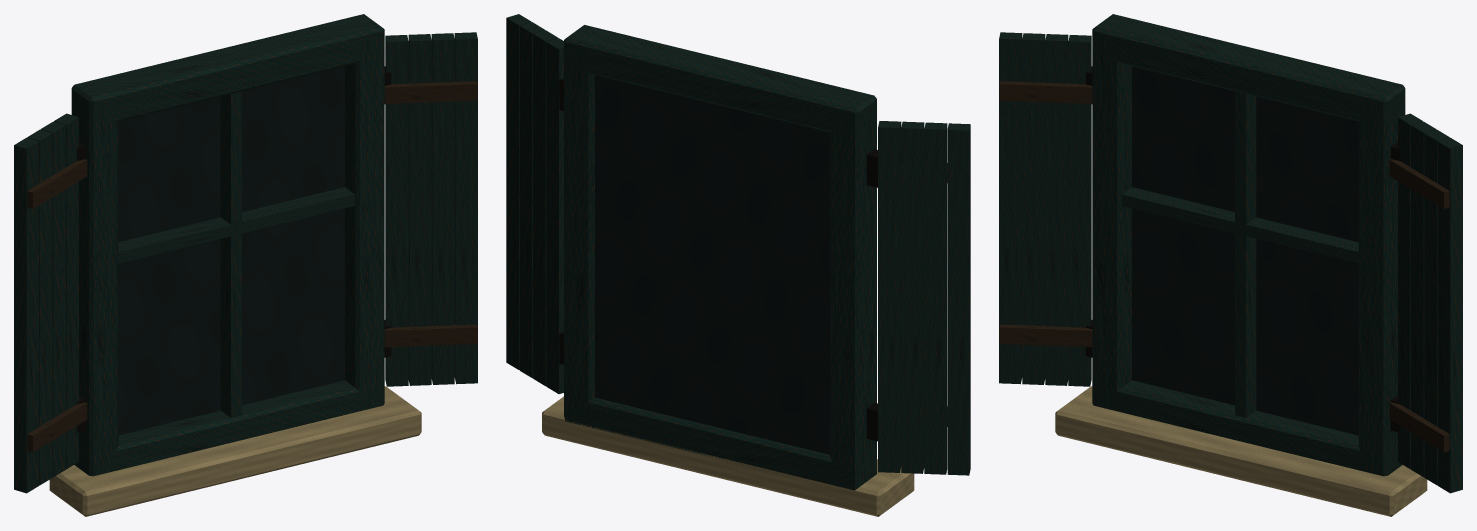
File: window_shutters.glb
3 views of the same model, side by side, from view 1: azimuth 30°, elevation 25°; view 2: azimuth 150°, elevation 25°; view 3: azimuth 330°, elevation 25° (orthographic).
Parts seen in each view (by area): view 1: window_shutters; view 2: window_shutters; view 3: window_shutters.
Boxes of the visible parts, x1,y1,x2,y2 form: window_shutters: (14, 14, 477, 516); window_shutters: (506, 14, 970, 516); window_shutters: (999, 14, 1462, 516).
Size of the model in its own units: 1.91 by 1.59 by 0.2702.
1 material, 1 textured.
